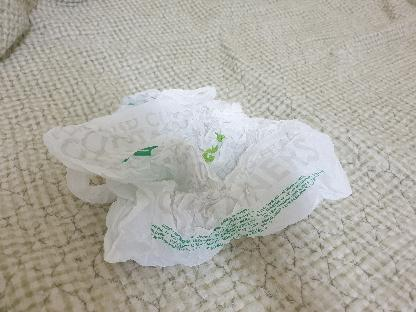Plastic Bag: (34, 81, 358, 270)
